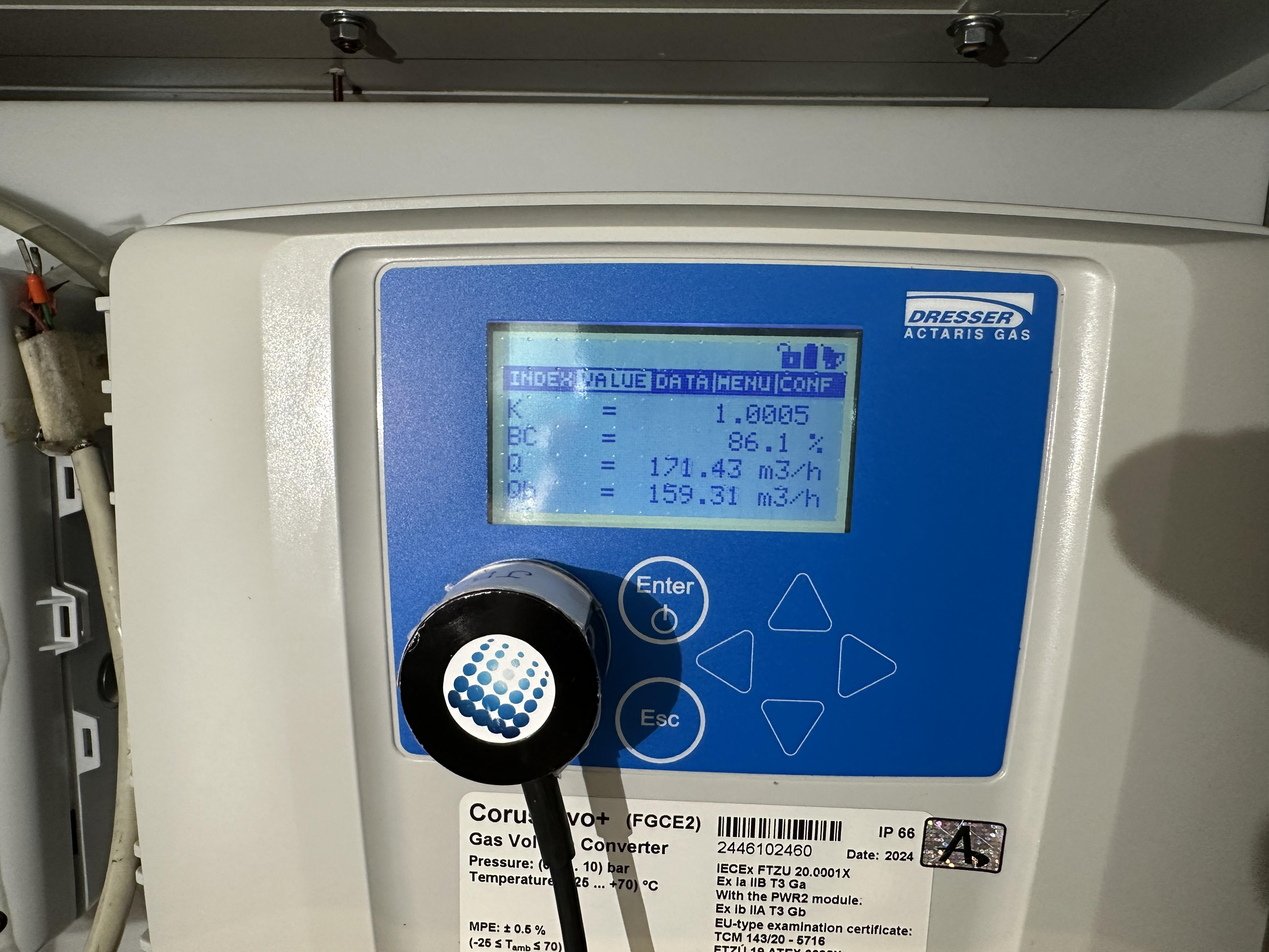digital_screen: (490, 329, 858, 532)
